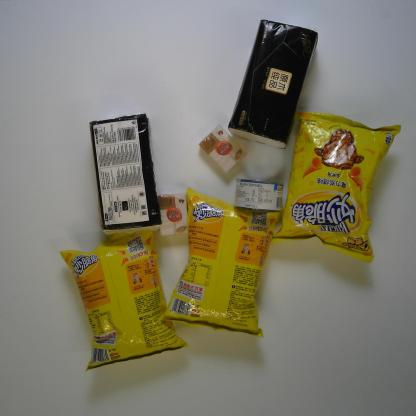Canned Food: (233, 177, 286, 214)
Puffed Food: (266, 105, 404, 264), (56, 226, 191, 375), (157, 184, 281, 340)
Tissue: (226, 18, 322, 150), (89, 110, 163, 239), (198, 124, 250, 176), (154, 193, 190, 240)
